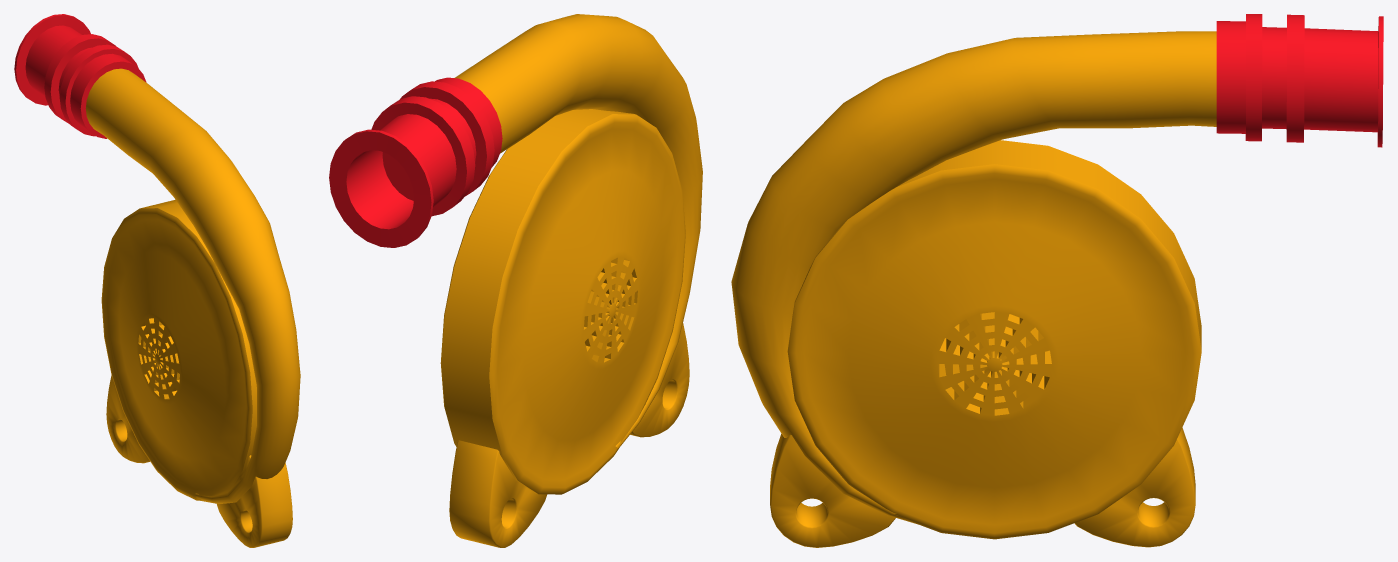
File: Blower.fbx
The picture shows the model from 3 angles, left to right: view 1: azimuth 30°, elevation 25°; view 2: azimuth 150°, elevation 25°; view 3: azimuth 270°, elevation 25°; orthographic projection. The views are drawn at different scales.
Parts seen in each view (by area): view 1: Blower; view 2: Blower; view 3: Blower.
Boxes of the visible parts, x1,y1,x2,y2 form: Blower: (14, 14, 300, 547); Blower: (329, 14, 702, 547); Blower: (731, 14, 1383, 547).
Size of the model in its own units: 7.53 by 34.33 by 39.12.
